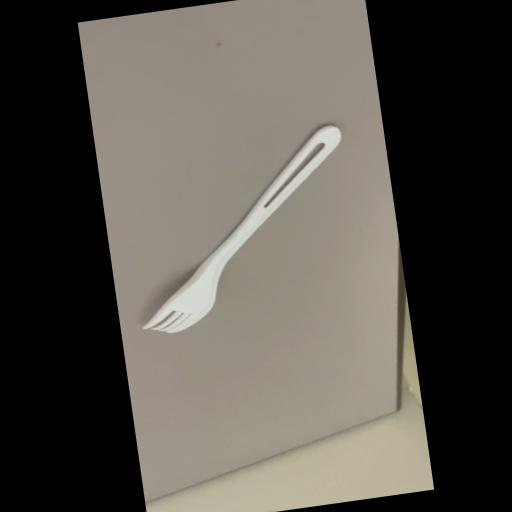utensil: (112, 121, 370, 345)
